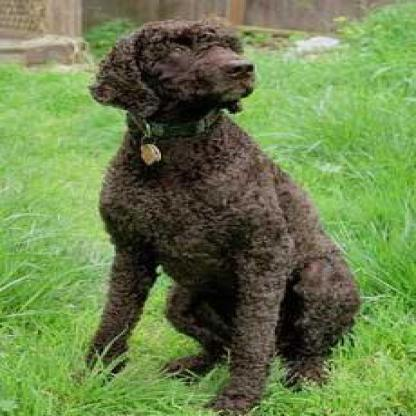Irish_water_spaniel: (83, 19, 360, 414)
